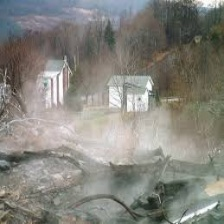smoke: (80, 117, 163, 206)
